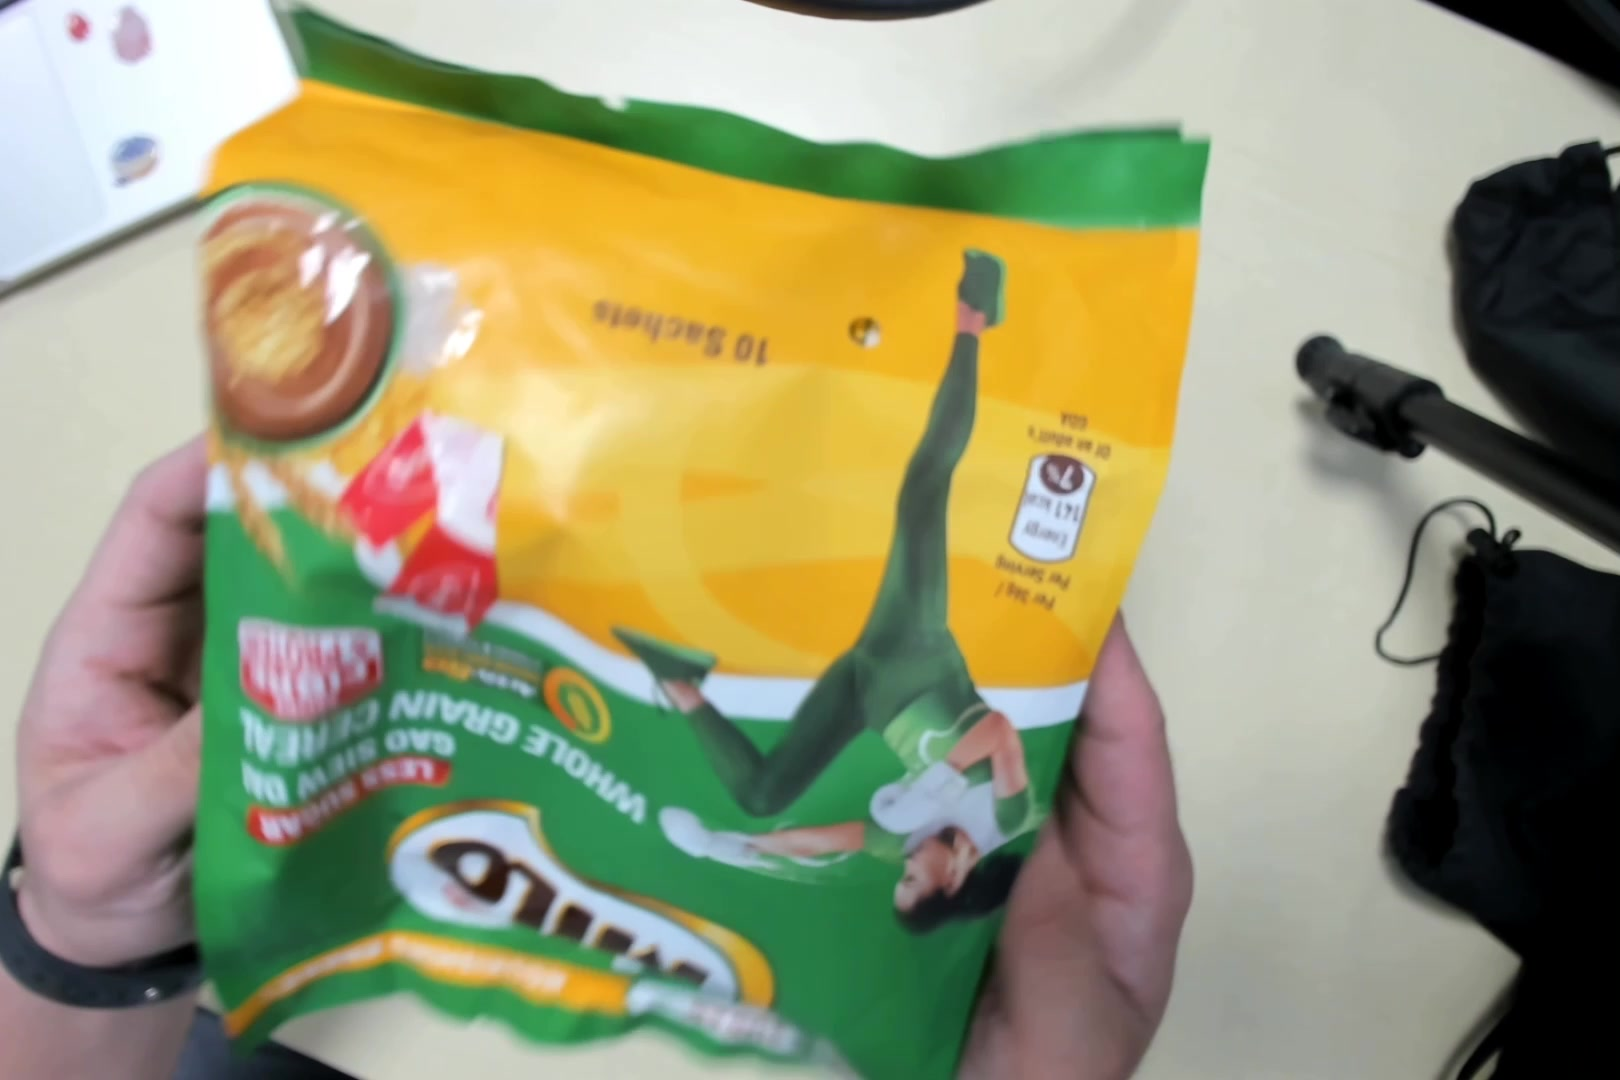ChocolateMaltPowder_300-399g_NonHalal_NonHealthy: (187, 53, 1155, 1080)
